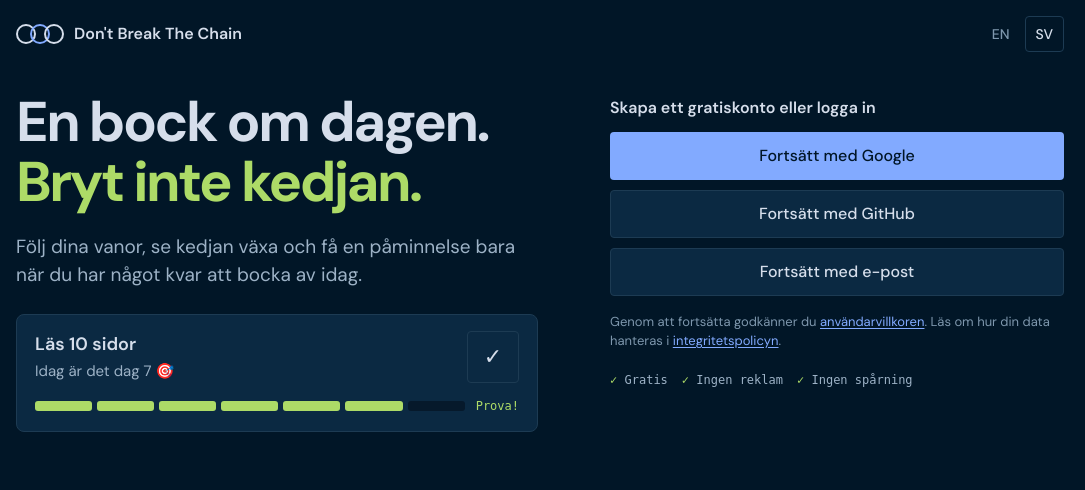
Test: Login - User authentication flow › should speak Swedish, sign-in errors included
expect the text "Don't Break The Chain" is shown: met, box [16,22,242,46]
Click the button "Fortsätt med Google" at point(837, 156), box [610,132,1064,180]
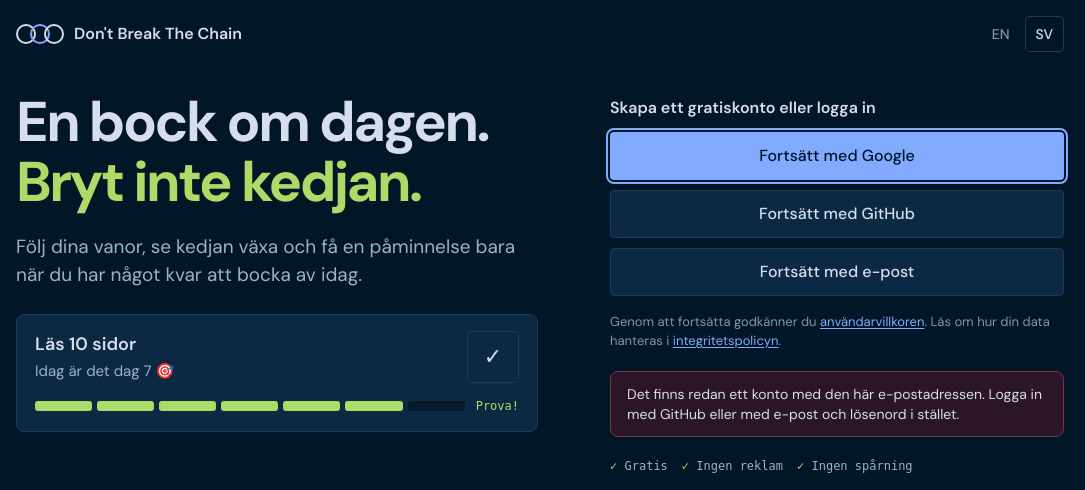
expect the message shows "Det finns redan ett konto med den här e-postadressen. Logga in med GitHub eller med e-post och lösenord i stället.": met, box [627,385,1042,423]
